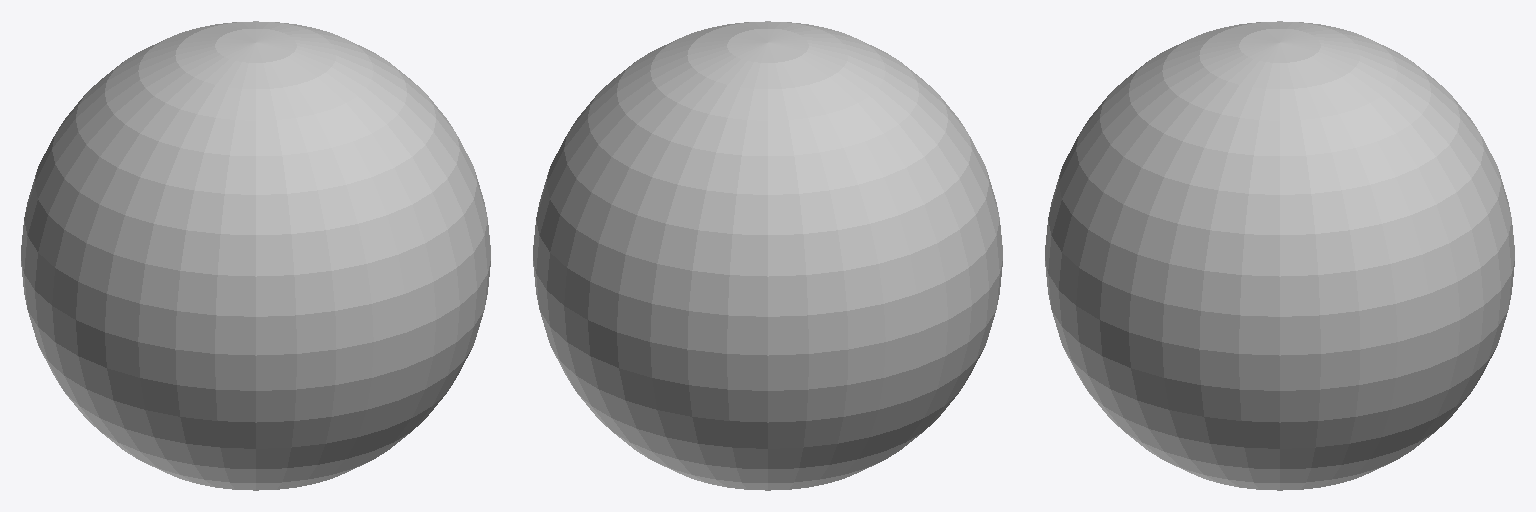
File: minimercury.obj
The picture shows the model from 3 angles: view 1: azimuth 30°, elevation 25°; view 2: azimuth 150°, elevation 25°; view 3: azimuth 270°, elevation 25°; orthographic projection.
Parts seen in each view (by area): view 1: Sphere.009; view 2: Sphere.009; view 3: Sphere.009.
Part boxes in pixels (x1,y1,x2,y2): Sphere.009: (21,21,490,490); Sphere.009: (533,21,1002,490); Sphere.009: (1045,21,1514,490).
Bounding box in the file's own units: 1464 × 1464 × 1464.